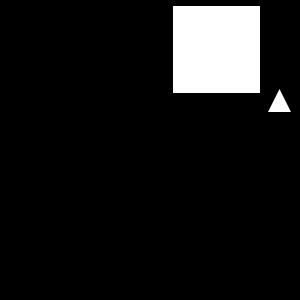circle: (173, 6, 260, 93)
triangle: (268, 89, 291, 112)
